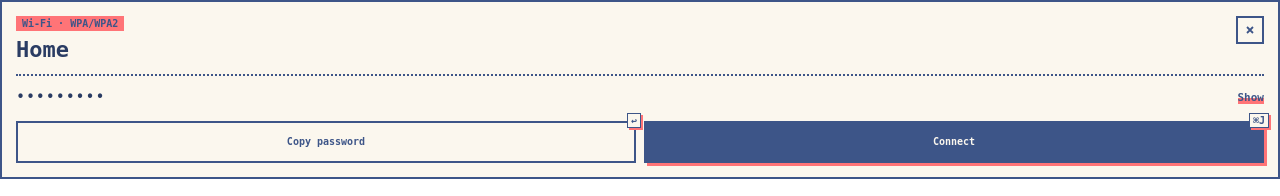
Test case: WifiCard › hides the password until Show is clicked
The image size is (1280, 196).
Expected: the text "secret123" is not shown
Click the button "Show": (1251, 98) [1238,91,1264,104]
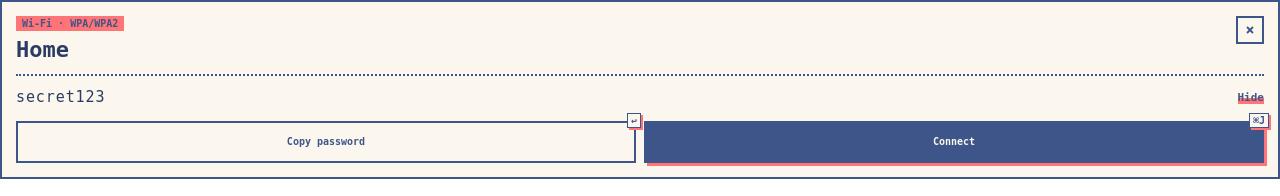
Expected: the text "secret123" is shown, [16,86,105,109]
